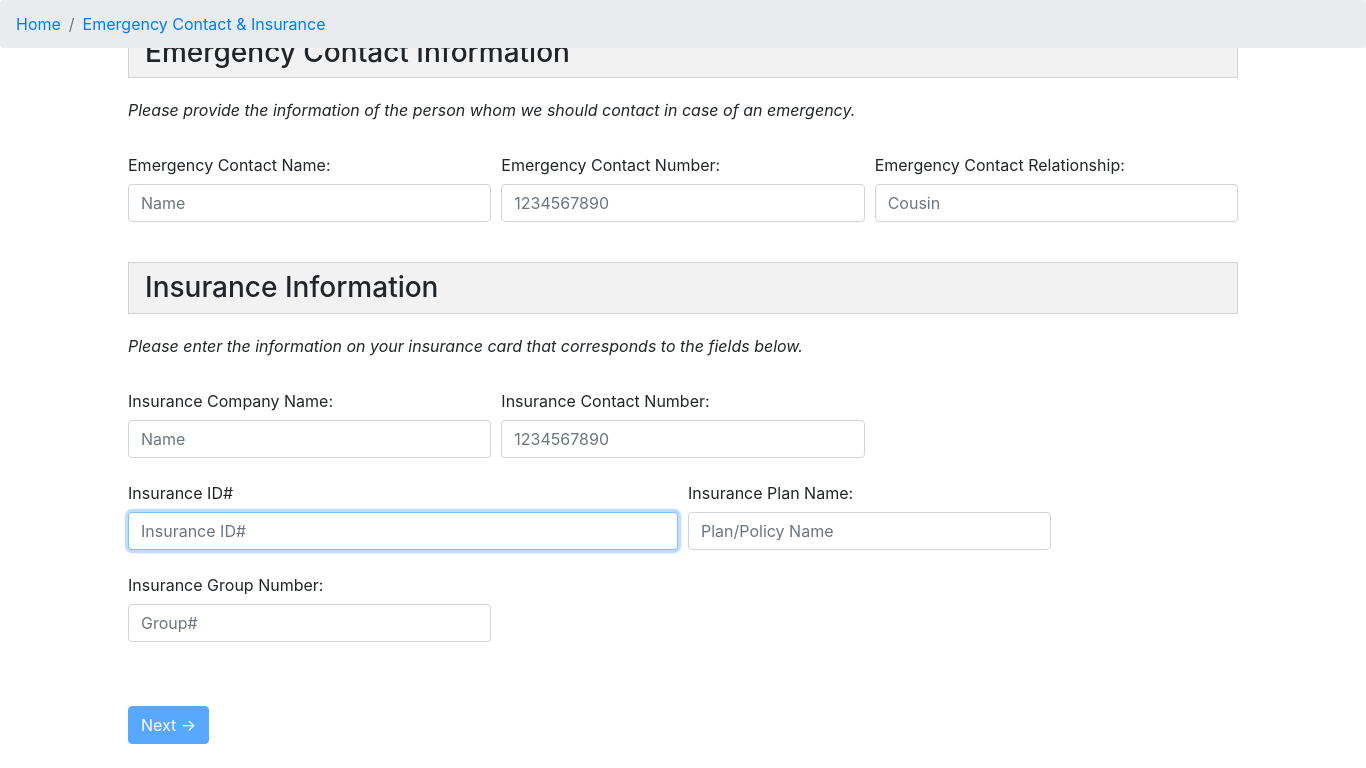
Test: EmergencyContact Component › Test validation of input fields and button › Enter insurance id greater than 9 should cause an error message
(page scrolled)
Type "1234567890" into the field with placeholder "Insurance ID#" at (403, 531), box [128,512,678,550]
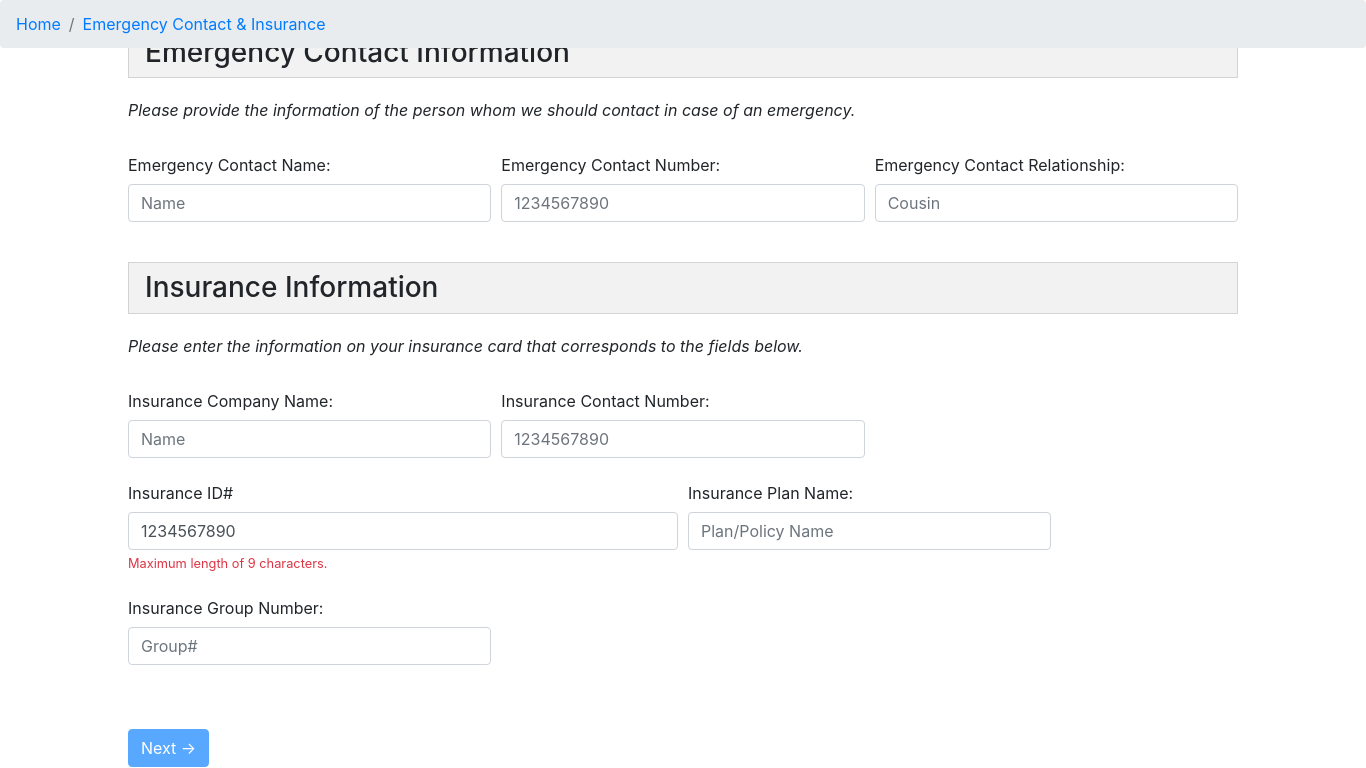
Now the text "Maximum length of 9 characters." is shown, box [128,556,328,571]
